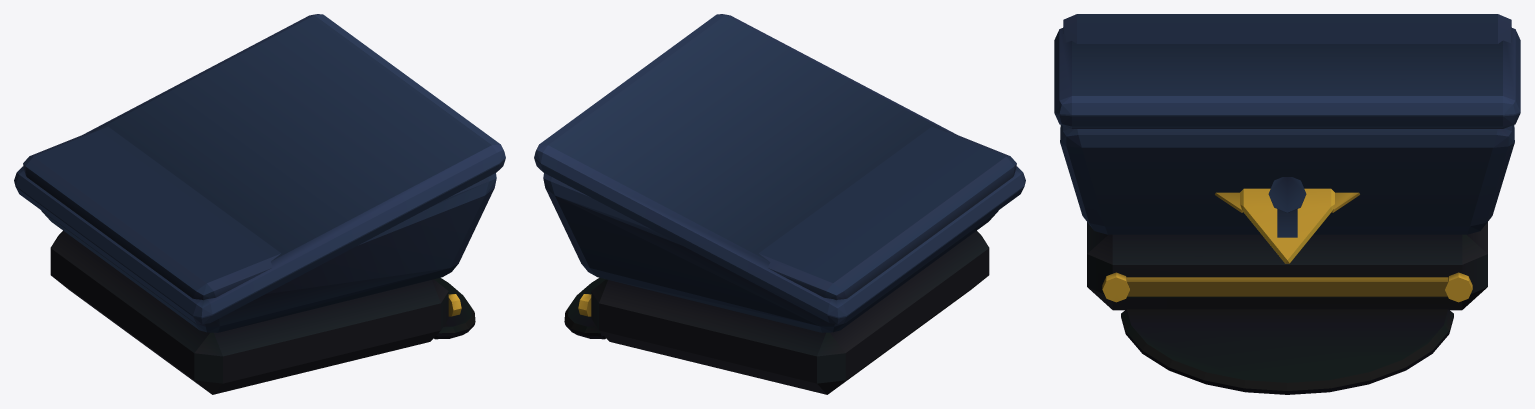
File: warden_cap.glb
3 renders of one model, left to right at view 1: azimuth 30°, elevation 25°; view 2: azimuth 150°, elevation 25°; view 3: azimuth 270°, elevation 25°, orthographic. The views are drawn at different scales.
Visible parts, largest first — view 1: Body; view 2: Body; view 3: Body.
Boxes of the visible parts, left/top/right/bottom form: Body: left=14, top=14, right=505, bottom=394; Body: left=534, top=14, right=1025, bottom=394; Body: left=1054, top=14, right=1520, bottom=394.
Size of the model in its own units: 0.6692 by 0.4147 by 0.64.
